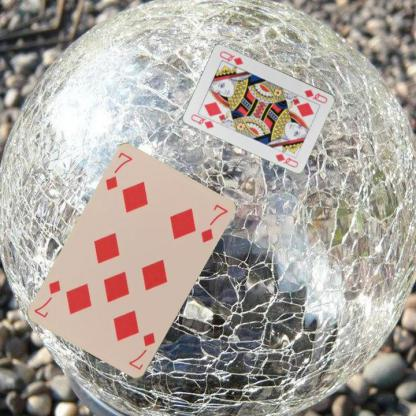7d: (103, 150, 134, 192), (126, 330, 157, 371)
Qd: (188, 110, 219, 130), (301, 86, 328, 104)
